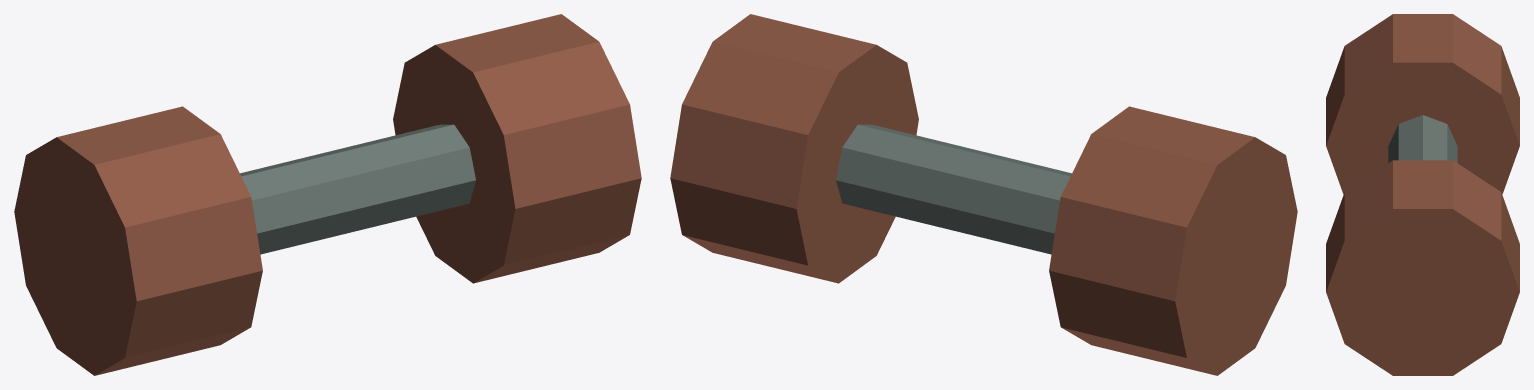
File: gantera_roz.glb
3 renders of one model, left to right at view 1: azimuth 30°, elevation 25°; view 2: azimuth 150°, elevation 25°; view 3: azimuth 270°, elevation 25°, orthographic. The views are drawn at different scales.
Parts seen in each view (by area): view 1: Gantera; view 2: Gantera; view 3: Gantera.
Boxes of the visible parts, x1,y1,x2,y2 form: Gantera: (14,14,641,375); Gantera: (670,14,1297,375); Gantera: (1326,14,1519,375).
Bounding box in the file's own units: 0.2 × 0.0799 × 0.084.
